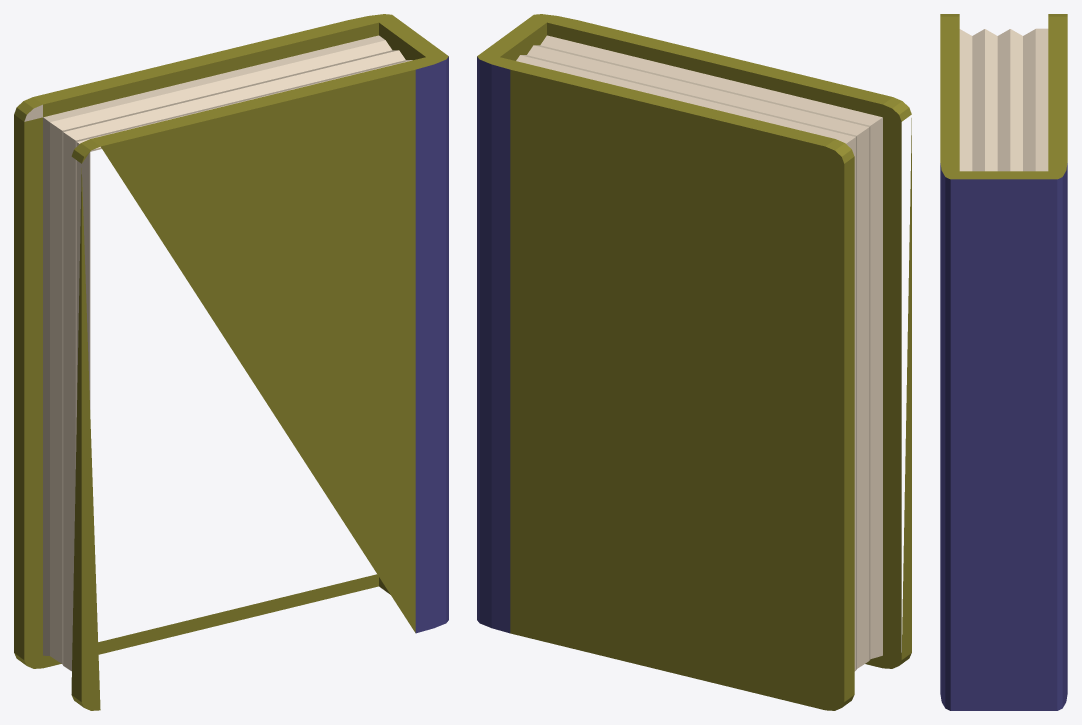
Rendered from Book Yellow.glb.
The picture shows the model from 3 angles, left to right: view 1: azimuth 30°, elevation 25°; view 2: azimuth 150°, elevation 25°; view 3: azimuth 270°, elevation 25°; orthographic projection. The views are drawn at different scales.
Parts seen in each view (by area): view 1: book_yellow; view 2: book_yellow; view 3: book_yellow.
Part boxes in pixels (x1=…): book_yellow: x1=14, y1=14, x2=448, y2=710; book_yellow: x1=477, y1=14, x2=911, y2=710; book_yellow: x1=940, y1=14, x2=1067, y2=710.
Bounding box in the file's own units: 0.2716 × 0.3928 × 0.0853.
